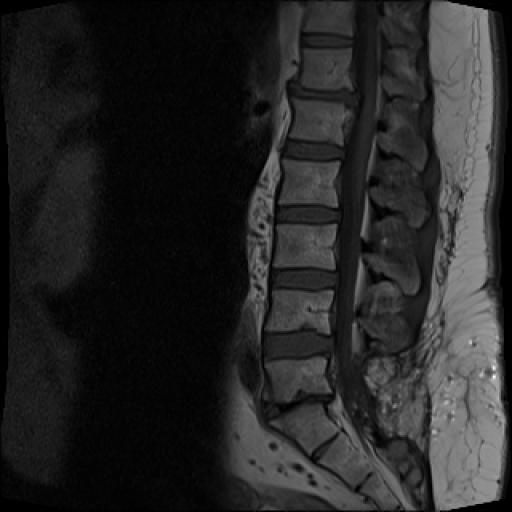L1: (287, 98, 354, 146)
L2: (280, 160, 340, 206)
L3: (274, 224, 336, 270)
L4: (266, 290, 332, 334)
L5: (265, 357, 332, 404)
S1: (269, 403, 340, 456)
